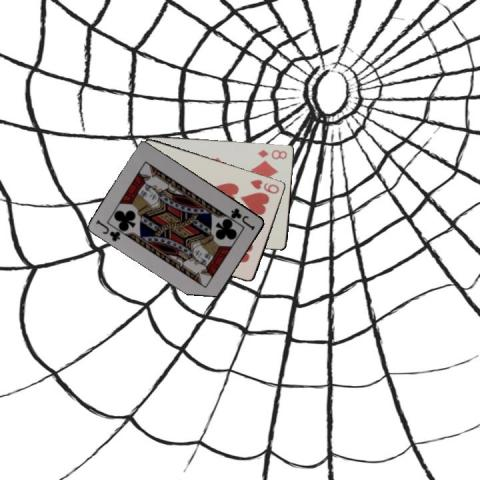8d: (255, 146, 289, 160)
9h: (247, 176, 281, 195)
Jc: (93, 216, 122, 243), (228, 204, 257, 230)
